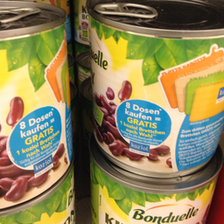beans: (87, 1, 224, 178), (1, 11, 71, 208)
